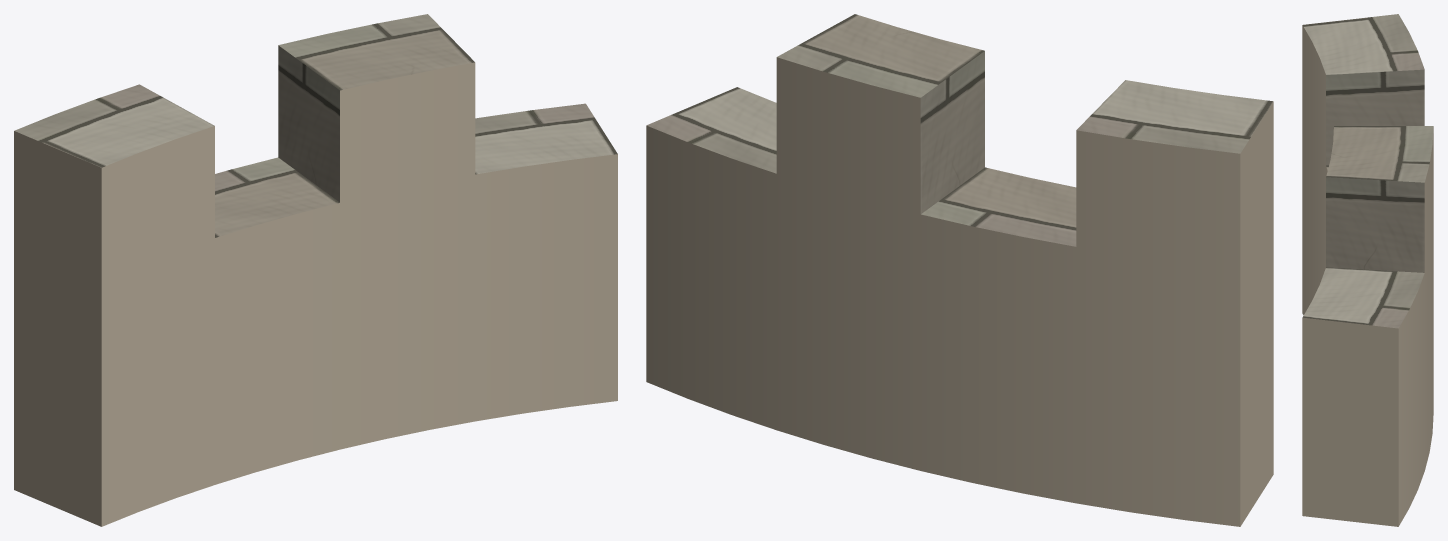
The model's file is Furn_Tower3_R45_Battlement.fbx.
The picture shows the model from 3 angles, left to right: view 1: azimuth 30°, elevation 25°; view 2: azimuth 150°, elevation 25°; view 3: azimuth 270°, elevation 25°; orthographic projection. The views are drawn at different scales.
Visible parts, largest first — view 1: Furn_Tower3_R45_Battlement; view 2: Furn_Tower3_R45_Battlement; view 3: Furn_Tower3_R45_Battlement.
Part boxes in pixels (bbox=[...]): Furn_Tower3_R45_Battlement: bbox=[14, 14, 617, 526]; Furn_Tower3_R45_Battlement: bbox=[646, 14, 1273, 526]; Furn_Tower3_R45_Battlement: bbox=[1302, 14, 1433, 526].
Size of the model in its own units: 2.67 by 1.6 by 0.6584.
